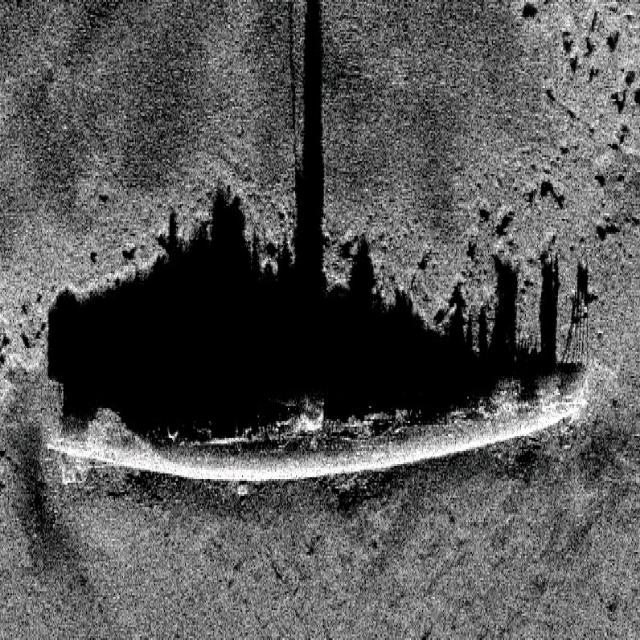ship: (45, 365, 591, 492)
